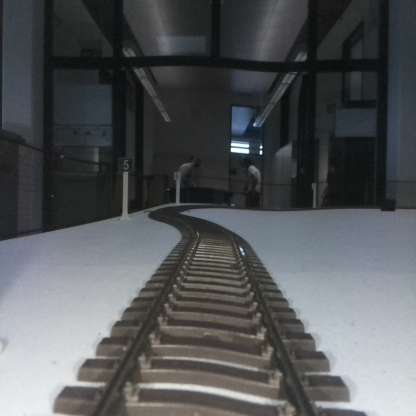black-info-5: (119, 156, 133, 220)
